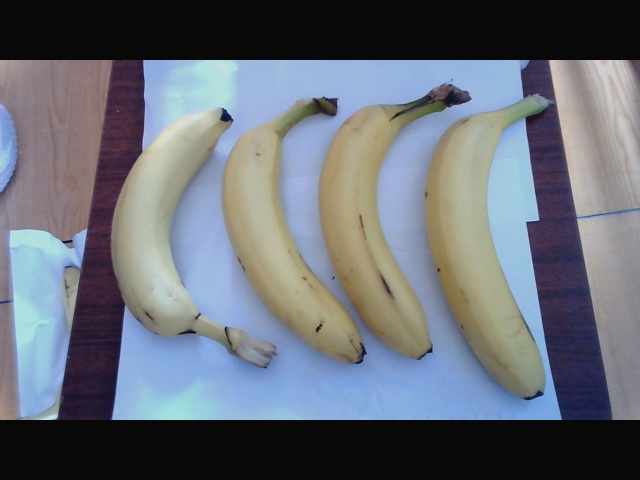banana: (427, 92, 552, 399), (109, 97, 230, 381), (212, 93, 333, 368), (322, 102, 433, 354)
